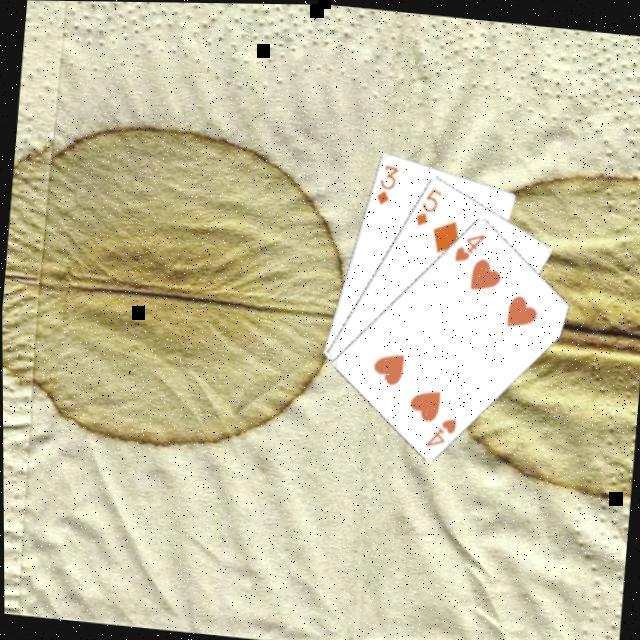3D: (370, 158, 400, 206)
4H: (420, 410, 458, 450), (449, 225, 487, 264)
5D: (409, 180, 444, 227)
